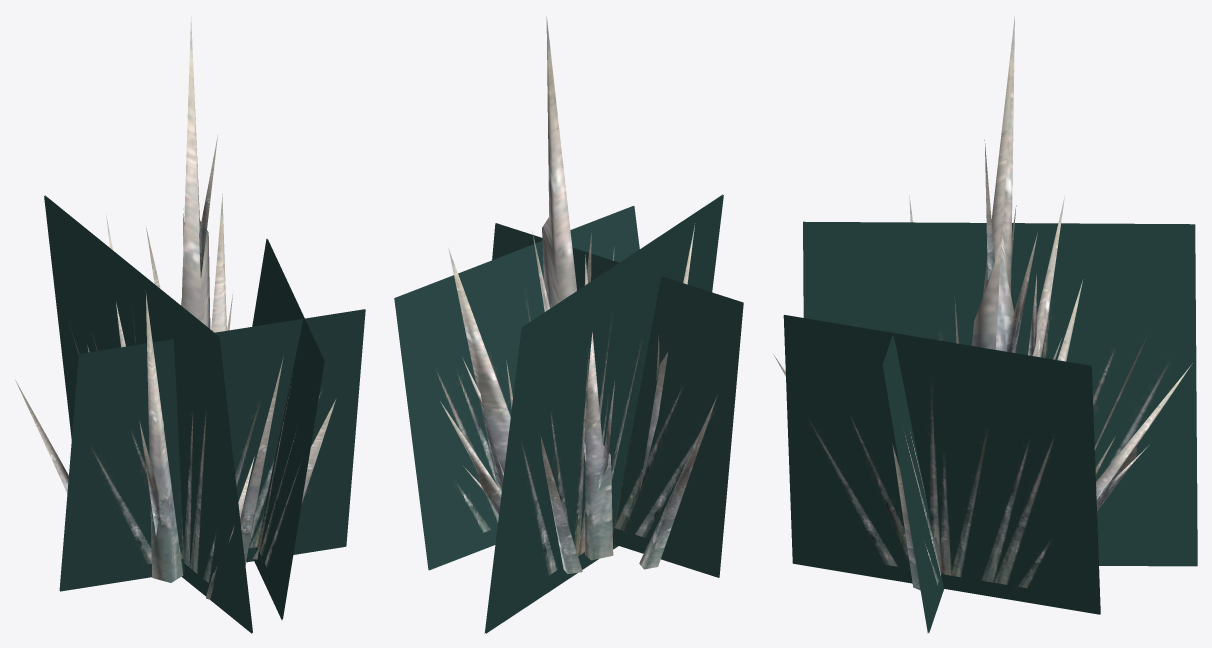
The model's file is rock_crystl_shrpbush_main_l1.fbx.
The picture shows the model from 3 angles, left to right: view 1: azimuth 30°, elevation 25°; view 2: azimuth 150°, elevation 25°; view 3: azimuth 270°, elevation 25°; orthographic projection. The views are drawn at different scales.
Visible parts, largest first — view 1: mesh_node; view 2: mesh_node; view 3: mesh_node.
Part boxes in pixels (x1,y1,x2,y2): mesh_node: (15, 16, 365, 633); mesh_node: (394, 16, 743, 633); mesh_node: (773, 16, 1197, 632).
Size of the model in its own units: 3.32 by 5.98 by 4.04.
